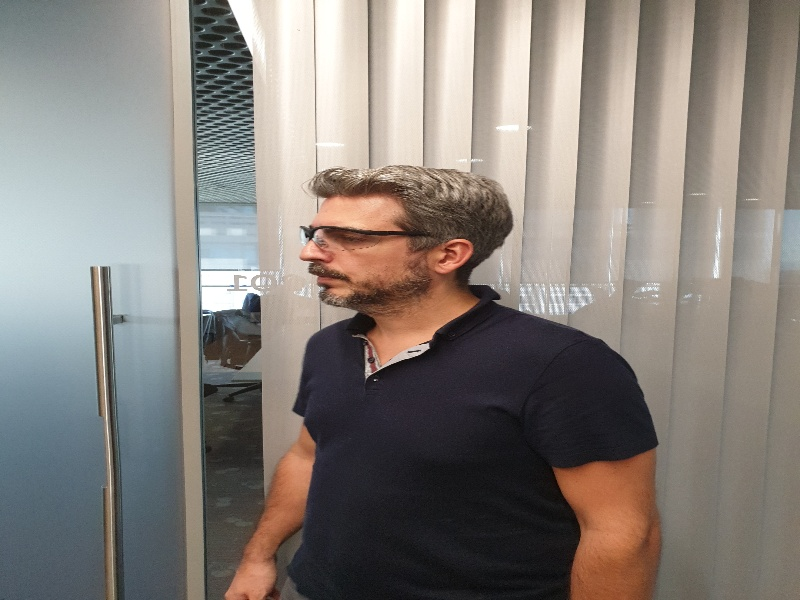Gozluk: (299, 223, 422, 251)
